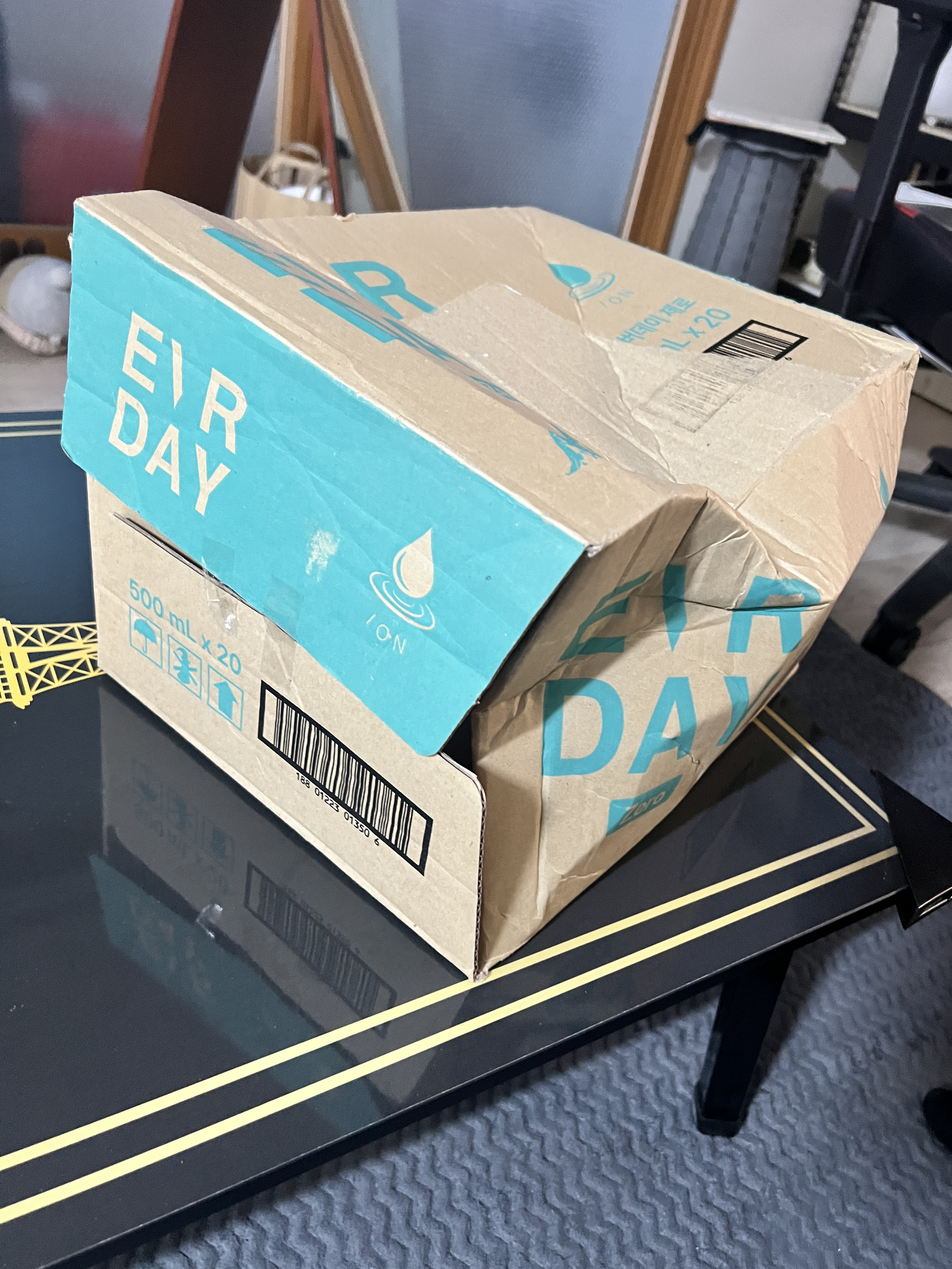damaged package: (173, 193, 878, 486), (425, 488, 847, 977)
